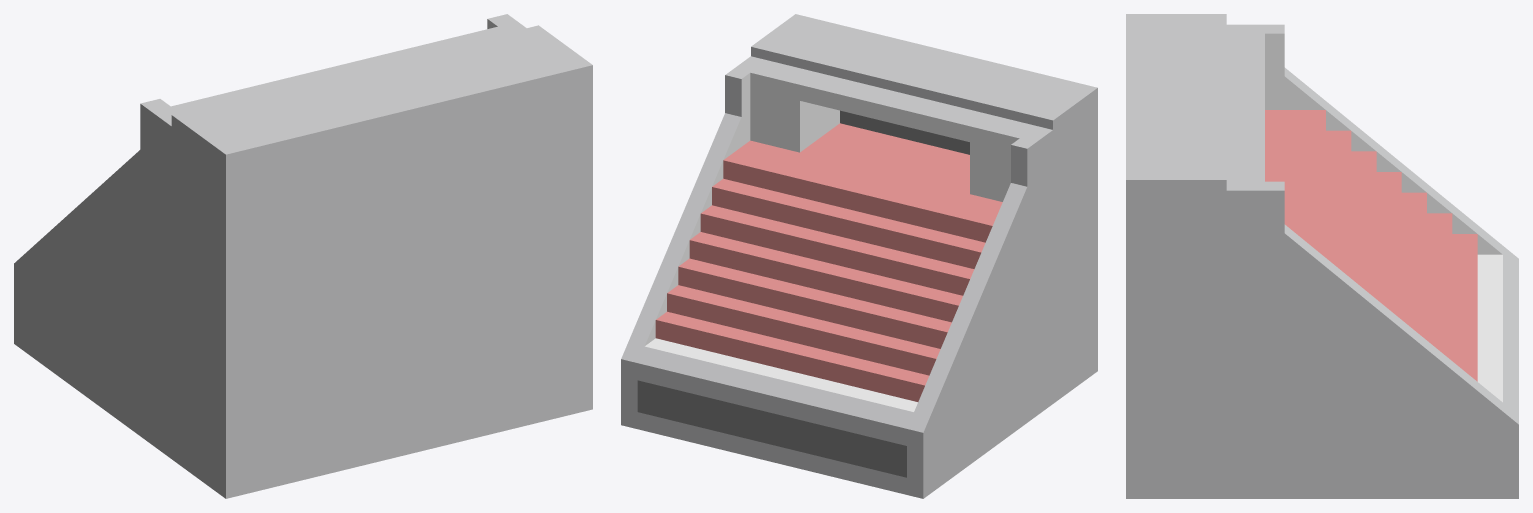
The model's file is grandstand.glb.
The picture shows the model from 3 angles, left to right: view 1: azimuth 30°, elevation 25°; view 2: azimuth 150°, elevation 25°; view 3: azimuth 270°, elevation 25°; orthographic projection. The views are drawn at different scales.
Parts seen in each view (by area): view 1: grandStand; view 2: grandStand; view 3: grandStand.
Boxes of the visible parts, x1,y1,x2,y2 form: grandStand: (14, 14, 592, 498); grandStand: (621, 14, 1097, 498); grandStand: (1126, 14, 1518, 498).
Bounding box in the file's own units: 1 × 0.8963 × 1.
